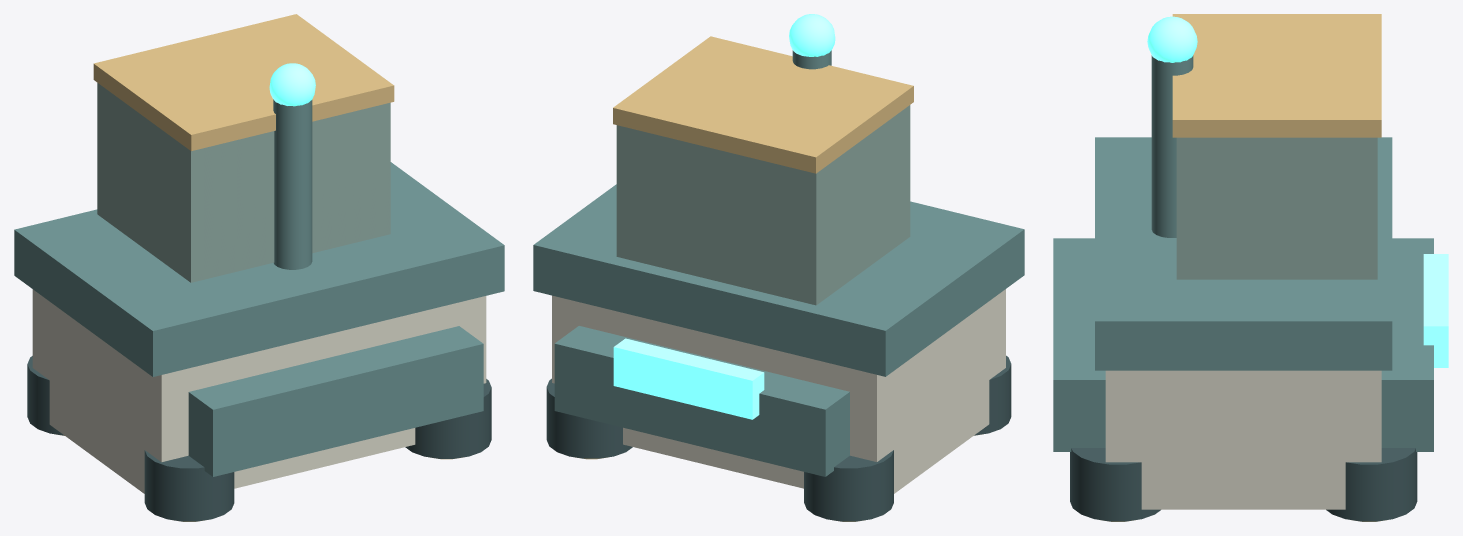
Rendered from mini-transporter.glb.
The picture shows the model from 3 angles, left to right: view 1: azimuth 30°, elevation 25°; view 2: azimuth 150°, elevation 25°; view 3: azimuth 270°, elevation 25°; orthographic projection. The views are drawn at different scales.
Parts seen in each view (by area): view 1: carrier.deck, carrier.payload, carrier.chassis, carrier.bumper.rear, carrier.payload.lid, carrier.mast, carrier.wheel.-0.38.0.3, carrier.wheel.0.38.0.3, carrier.sensor, carrier.wheel.-0.38.-0.3; view 2: carrier.deck, carrier.payload, carrier.chassis, carrier.payload.lid, carrier.bumper.front, carrier.eye, carrier.wheel.-0.38.-0.3, carrier.wheel.0.38.-0.3, carrier.sensor, carrier.wheel.-0.38.0.3; view 3: carrier.deck, carrier.chassis, carrier.payload, carrier.payload.lid, carrier.bumper.rear, carrier.bumper.front, carrier.wheel.0.38.-0.3, carrier.wheel.0.38.0.3, carrier.mast, carrier.eye, carrier.sensor.
Part boxes in pixels (x1,y1,x2,y2): carrier.deck: (14,162,504,376); carrier.payload: (97,83,390,282); carrier.chassis: (32,289,486,493); carrier.bumper.rear: (188,326,483,476); carrier.payload.lid: (93,14,394,151); carrier.mast: (273,99,312,269); carrier.wheel.-0.38.0.3: (144,450,234,521); carrier.wheel.0.38.0.3: (405,379,491,458); carrier.sensor: (269,63,315,106); carrier.wheel.-0.38.-0.3: (27,356,63,435); carrier.deck: (533,184,1024,376); carrier.payload: (616,105,910,305); carrier.chassis: (552,289,1005,493); carrier.payload.lid: (613,36,913,173); carrier.bumper.front: (554,326,849,476); carrier.eye: (613,338,764,419); carrier.wheel.-0.38.-0.3: (804,450,893,521); carrier.wheel.0.38.-0.3: (546,378,632,458); carrier.sensor: (789,14,835,56); carrier.wheel.-0.38.0.3: (974,355,1011,435); carrier.deck: (1095,137,1392,370); carrier.chassis: (1105,370,1381,509); carrier.payload: (1176,137,1377,279); carrier.payload.lid: (1172,14,1381,137); carrier.bumper.rear: (1053,238,1105,451); carrier.bumper.front: (1381,238,1433,451); carrier.wheel.0.38.-0.3: (1326,448,1417,521); carrier.wheel.0.38.0.3: (1070,448,1160,521); carrier.mast: (1151,55,1193,237); carrier.eye: (1423,254,1448,367); carrier.sensor: (1147,16,1197,62).
Bounding box in the file's own units: 1.04 × 1.11 × 0.945.
